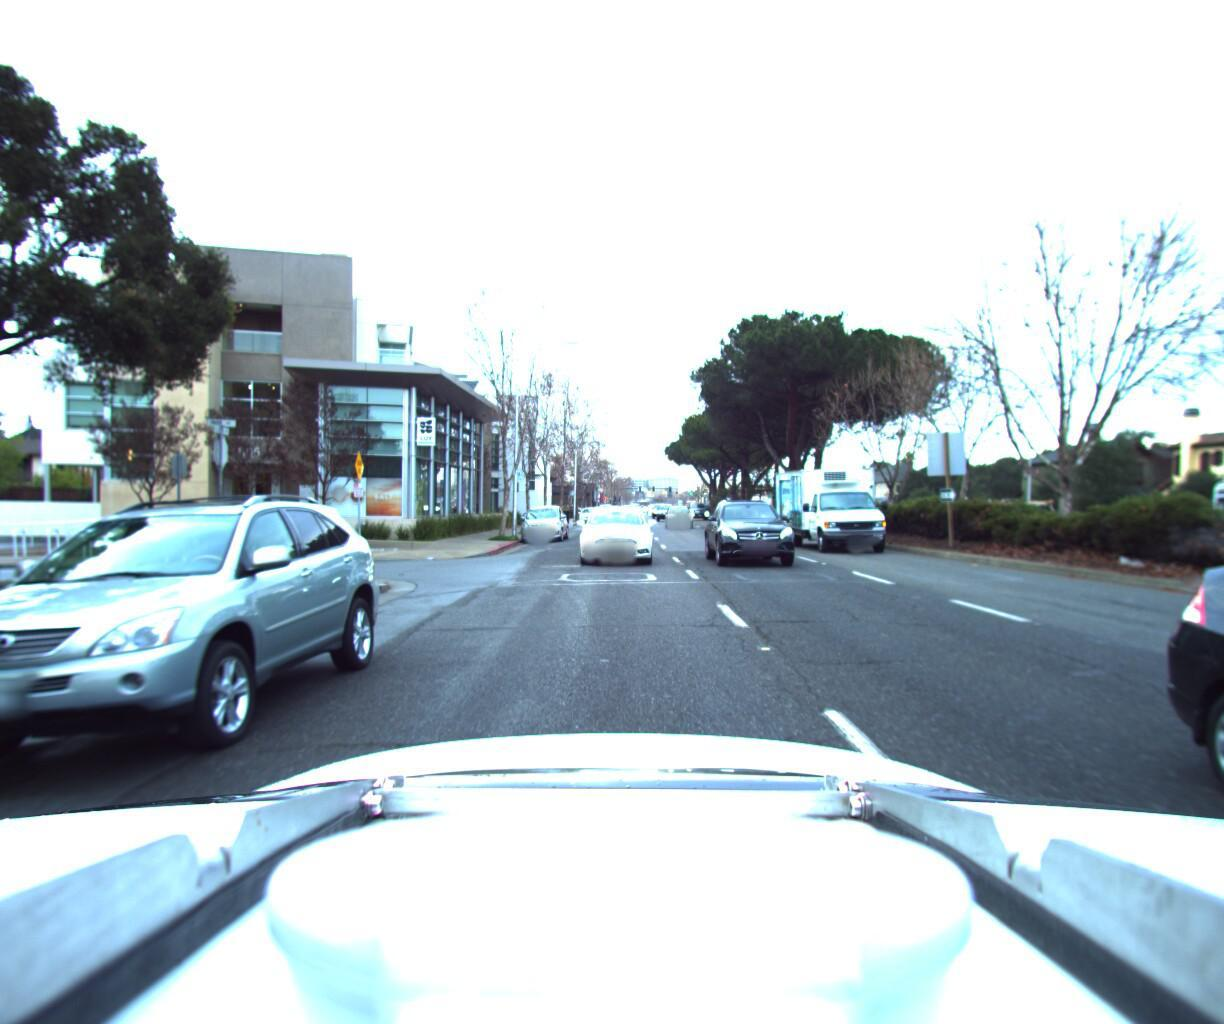car: (0, 487, 386, 818), (703, 490, 815, 567), (575, 496, 654, 561), (969, 476, 1062, 511), (516, 496, 569, 538), (661, 500, 698, 525), (578, 497, 600, 515), (653, 498, 675, 515), (688, 500, 709, 516)
other_vehicle: (1186, 445, 1224, 567)
truck: (776, 449, 916, 549)
